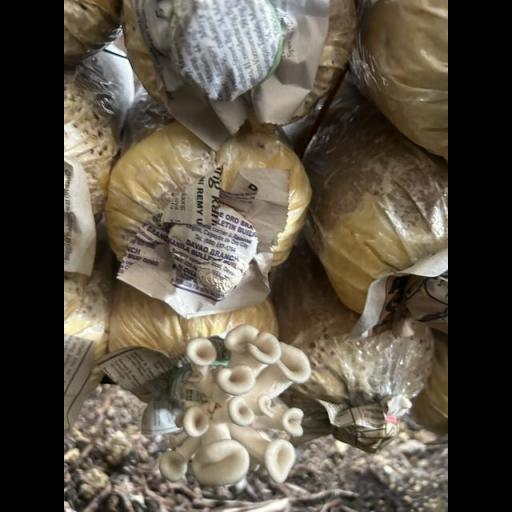White Oyster Mushroom: (150, 310, 322, 498)
